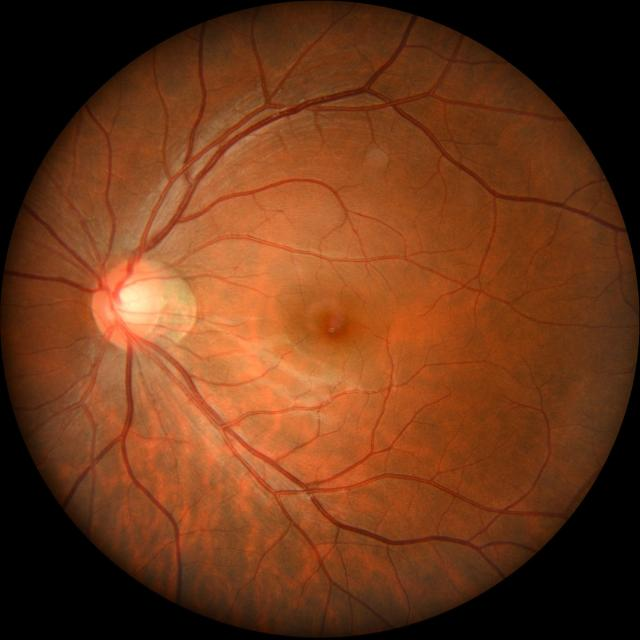OC: (114, 279, 156, 329)
OD: (94, 259, 164, 346)
